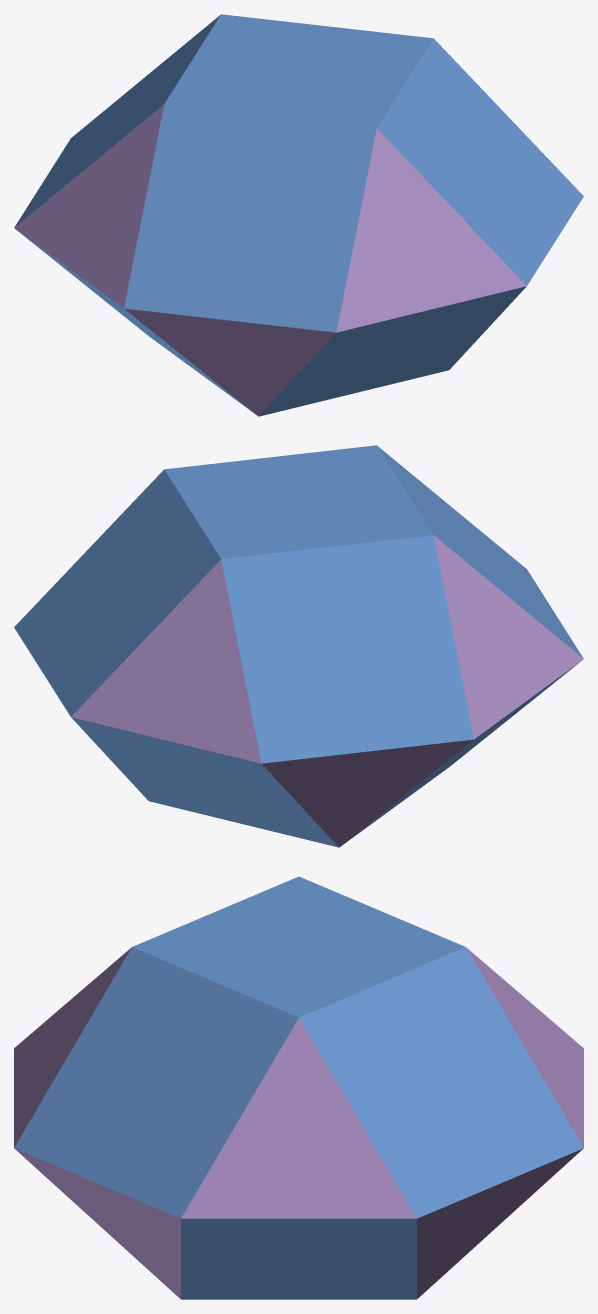
Rendered from J29.GirobicupulaCuadrada.gltf.
3 views of the same model, one above another, from view 1: azimuth 30°, elevation 25°; view 2: azimuth 150°, elevation 25°; view 3: azimuth 270°, elevation 25° (orthographic). The views are drawn at different scales.
Visible parts, largest first — view 1: J29.GirobicupulaCuadrada; view 2: J29.GirobicupulaCuadrada; view 3: J29.GirobicupulaCuadrada.
Part boxes in pixels (x1,y1,x2,y2): J29.GirobicupulaCuadrada: (14, 14, 583, 416); J29.GirobicupulaCuadrada: (14, 445, 583, 847); J29.GirobicupulaCuadrada: (14, 876, 583, 1299).
Bounding box in the file's own units: 18.48 × 10.82 × 18.48.
